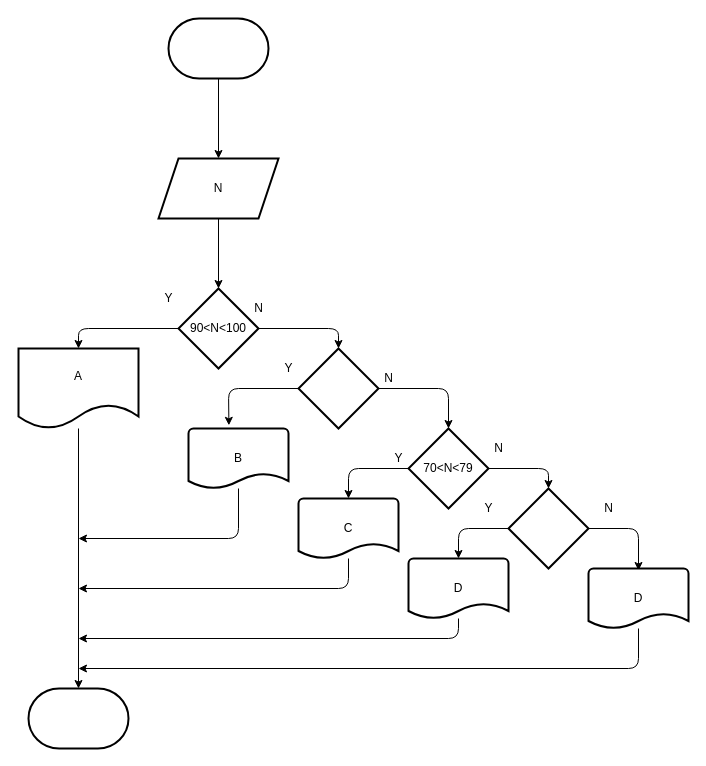
Some shapes in this 706 by 766 pixel diagram are drawn without their labels. The shapes that lost their labels are listed below. From the top down, each one's centre as x and y in pixels, then its label:
At (218,48): "start".
At (338,388): "80<N<89".
At (548,528): "60<N<69".
At (78,718): "finish".
